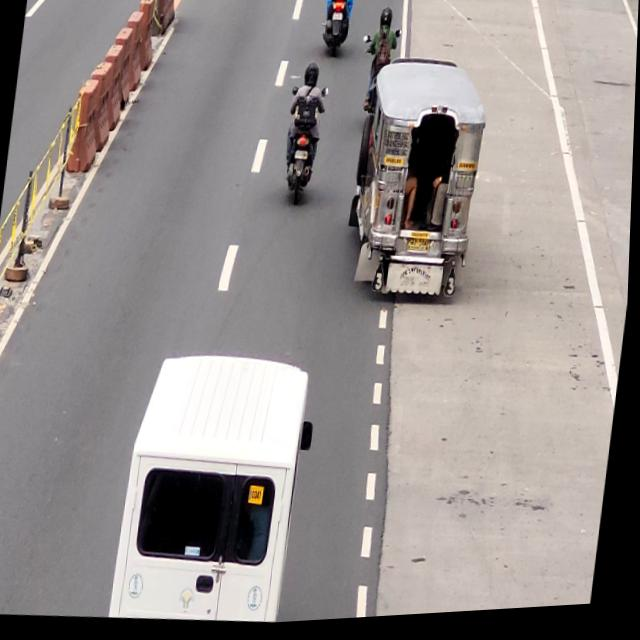Car: (120, 349, 318, 634)
Jeep: (347, 57, 490, 306)
License-Plate: (408, 240, 435, 262), (293, 152, 311, 166), (333, 13, 345, 25)
Motorcycle: (281, 62, 330, 210), (365, 11, 401, 66), (321, 0, 355, 55)
